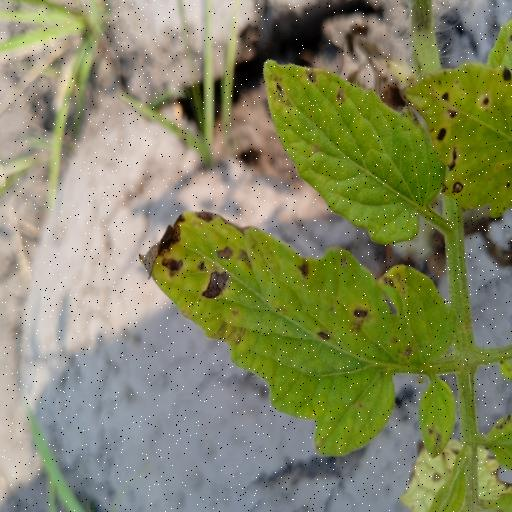Tomato_Brown_Spots: (141, 204, 464, 462), (259, 53, 444, 251), (397, 56, 512, 226)
